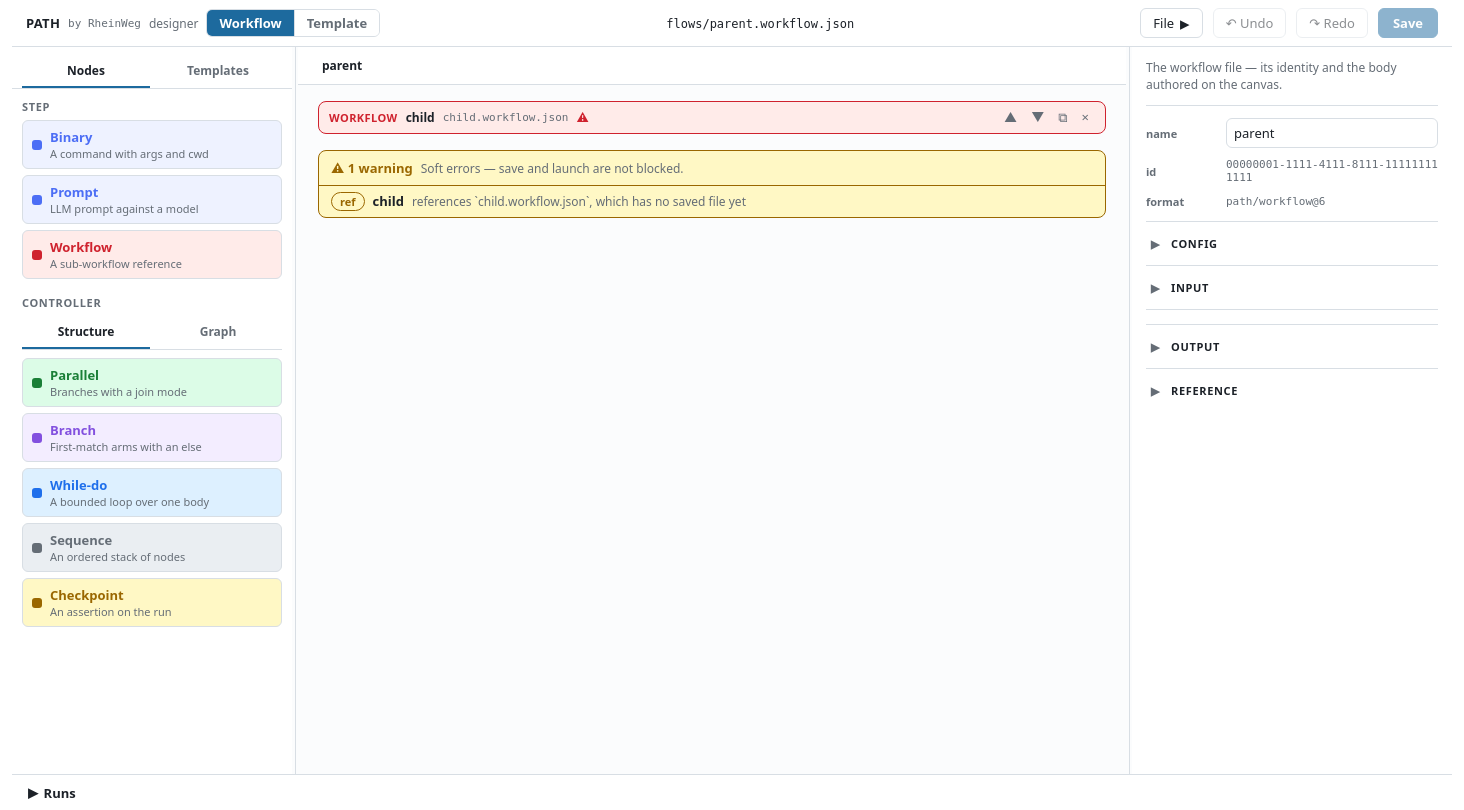
Test: dangling-`workflow`-ref marker + launch badge › badges launch with the dangling-ref count, and still lets the run launch
Expected: the 1st text "child" is shown, [406,109,435,126]
Step 1. Click the button "▸ Runs" → click(52, 792), box [22,779,82,806]
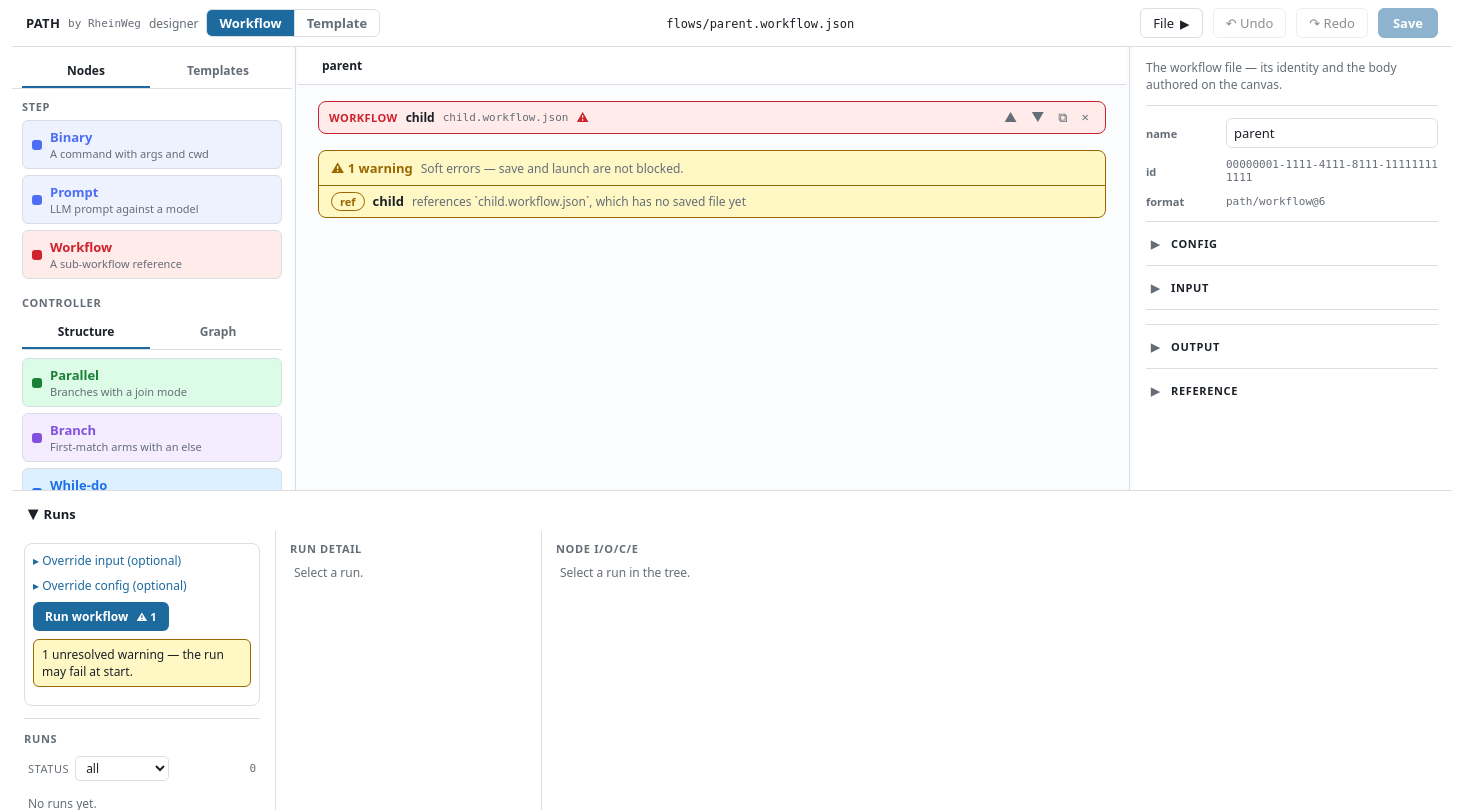
Expected: the text with test id "run-launch-warning-badge" reads "⚠ 1", [136,609,157,624]
Expected: the button with test id "run-launch-submit" is enabled, [33,602,169,631]
